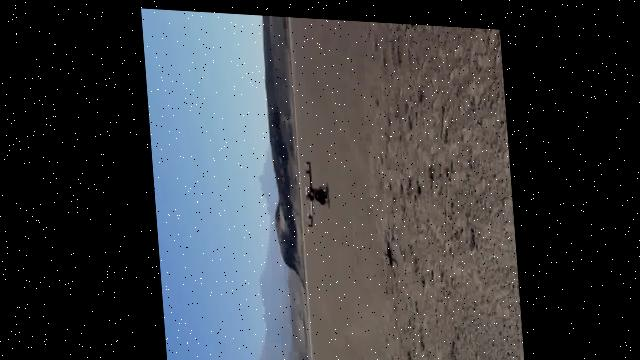drone: (284, 140, 338, 238)
